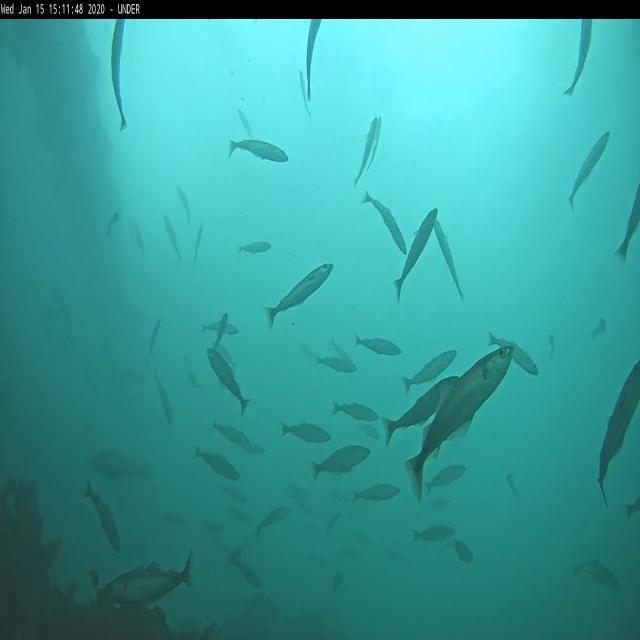fish: (405, 343, 515, 503), (596, 359, 639, 504), (99, 551, 193, 607), (265, 263, 333, 330), (394, 207, 438, 301), (568, 130, 610, 210), (360, 190, 406, 257), (207, 348, 252, 416), (82, 477, 122, 551), (432, 212, 464, 302), (488, 330, 540, 380), (402, 348, 456, 396), (562, 19, 594, 96), (86, 447, 150, 485), (310, 444, 370, 484), (110, 18, 130, 134), (614, 184, 640, 262), (228, 136, 288, 166), (194, 444, 240, 482), (355, 115, 378, 188), (572, 560, 619, 594), (306, 20, 324, 106), (213, 419, 252, 456), (228, 556, 267, 592), (281, 419, 330, 447), (153, 369, 174, 430), (332, 400, 379, 426), (354, 331, 402, 356), (316, 351, 358, 377), (258, 504, 292, 536), (354, 482, 401, 504), (412, 521, 455, 544), (164, 212, 182, 262), (211, 312, 229, 356), (368, 113, 382, 169), (200, 319, 242, 336), (298, 70, 312, 118), (176, 182, 192, 221), (238, 238, 270, 256), (237, 109, 253, 139)
